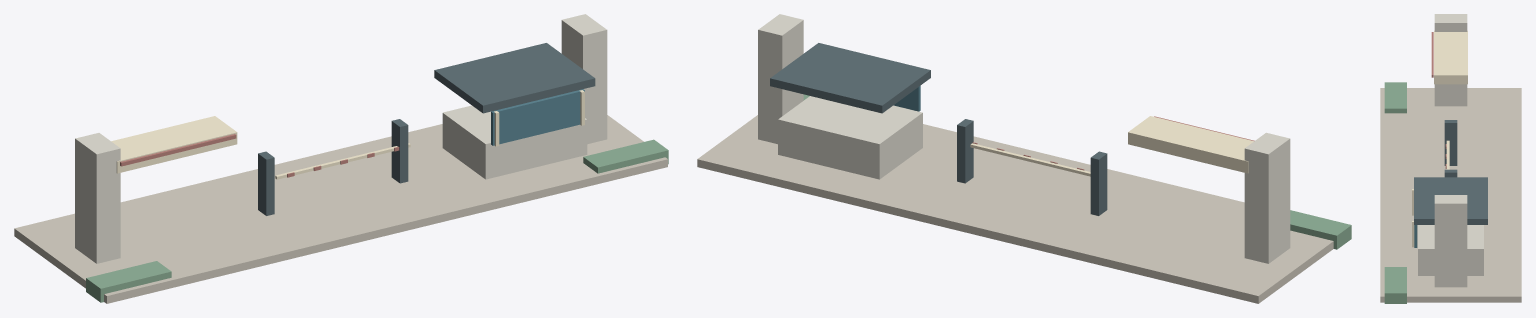
Rendered from entrance_gate.glb.
The picture shows the model from 3 angles, left to right: view 1: azimuth 30°, elevation 25°; view 2: azimuth 150°, elevation 25°; view 3: azimuth 270°, elevation 25°; orthographic projection. The views are drawn at different scales.
Parts seen in each view (by area): view 1: GEO-frontage plinth, GEO-security booth roof, GEO-security booth base, GEO-entrance pylon, GEO-entrance pylon.001, GEO-pedestrian portal lintel, GEO-security booth glazed belt, GEO-planting, GEO-planting.001, GEO-vehicle side posts.001, GEO-vehicle side posts, GEO-pedestrian portal accent (+1 smaller); view 2: GEO-frontage plinth, GEO-security booth base, GEO-security booth roof, GEO-entrance pylon, GEO-entrance pylon.001, GEO-pedestrian portal lintel, GEO-planting, GEO-vehicle side posts, GEO-vehicle side posts.001, GEO-vehicle boom; view 3: GEO-frontage plinth, GEO-entrance pylon.001, GEO-security booth roof, GEO-pedestrian portal lintel, GEO-security booth base, GEO-entrance pylon, GEO-planting.001, GEO-planting, GEO-vehicle side posts, GEO-pedestrian portal accent, GEO-vehicle side posts.001, GEO-vehicle boom.
Part boxes in pixels (x1,y1,x2,y2): GEO-frontage plinth: (14, 115, 667, 303); GEO-security booth roof: (434, 43, 595, 113); GEO-security booth base: (442, 105, 587, 179); GEO-entrance pylon: (75, 133, 120, 263); GEO-entrance pylon.001: (561, 14, 607, 144); GEO-pedestrian portal lintel: (111, 116, 237, 173); GEO-security booth glazed belt: (491, 89, 584, 145); GEO-planting: (86, 261, 171, 302); GEO-planting.001: (583, 139, 668, 173); GEO-vehicle side posts.001: (391, 119, 408, 183); GEO-vehicle side posts: (258, 151, 274, 215); GEO-pedestrian portal accent: (120, 134, 236, 166); GEO-frontage plinth: (697, 115, 1333, 303); GEO-security booth base: (778, 96, 922, 179); GEO-security booth roof: (770, 43, 930, 113); GEO-entrance pylon: (1244, 132, 1290, 263); GEO-entrance pylon.001: (758, 14, 803, 144); GEO-pedestrian portal lintel: (1128, 116, 1253, 173); GEO-planting: (1290, 210, 1351, 249); GEO-vehicle side posts: (1090, 151, 1107, 215); GEO-vehicle side posts.001: (957, 119, 973, 183); GEO-vehicle boom: (970, 143, 1090, 176); GEO-frontage plinth: (1380, 88, 1521, 302); GEO-entrance pylon.001: (1434, 195, 1467, 287); GEO-security booth roof: (1414, 177, 1487, 224); GEO-pedestrian portal lintel: (1434, 30, 1467, 84); GEO-security booth base: (1418, 225, 1483, 275); GEO-entrance pylon: (1434, 14, 1467, 106); GEO-planting.001: (1384, 267, 1406, 303); GEO-planting: (1384, 82, 1406, 113); GEO-vehicle side posts: (1444, 120, 1457, 165); GEO-pedestrian portal accent: (1431, 32, 1433, 77); GEO-vehicle side posts.001: (1444, 169, 1457, 177); GEO-vehicle boom: (1446, 140, 1449, 169).
Size of the model in its own units: 21.25 by 4.2 by 6.
